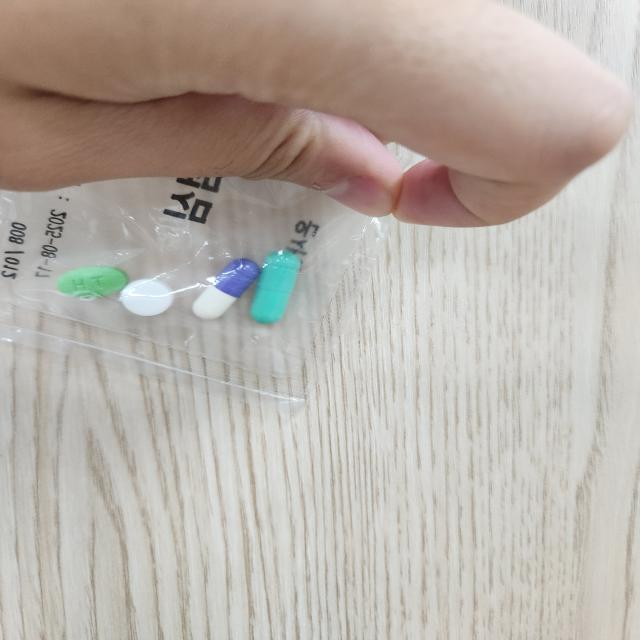러키펜정: (119, 279, 176, 319)
씨엠지세파클러캡슐: (191, 258, 262, 323)
에르도캡슐: (249, 247, 304, 328)
휴티렌정: (54, 266, 135, 302)
